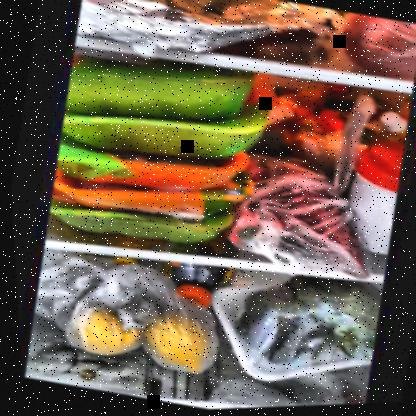broccoli: (229, 267, 382, 389)
chicken: (41, 47, 261, 259)
lemon: (131, 312, 214, 380), (71, 310, 140, 358)
tomato: (335, 12, 415, 86)
